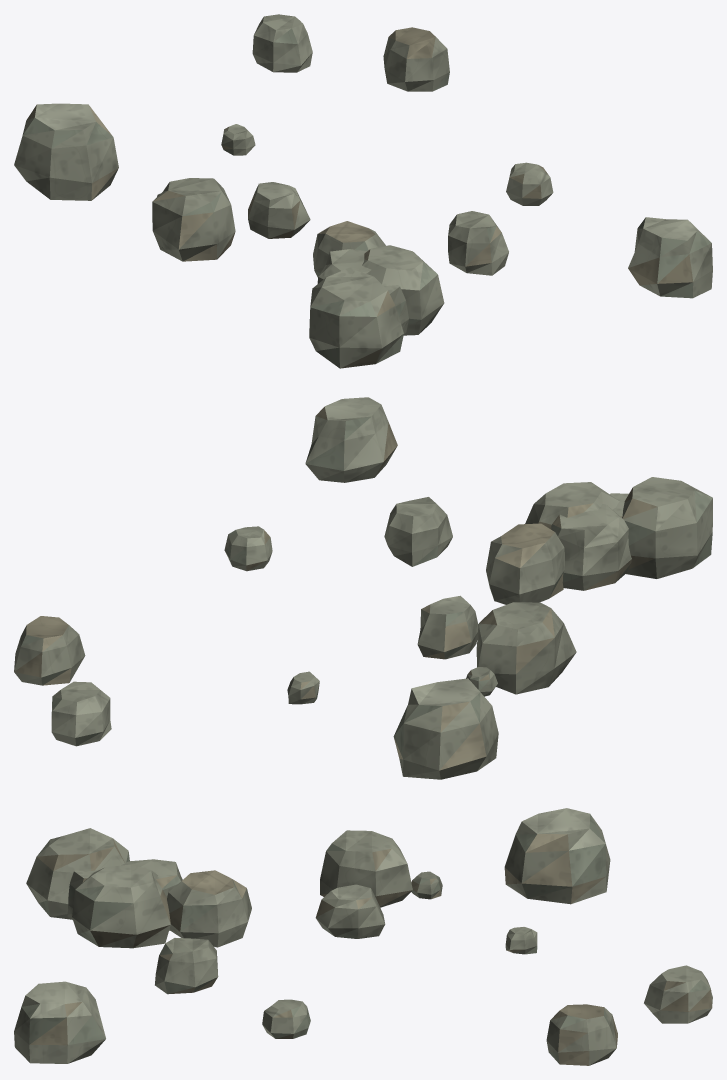
The model's file is b12_rubble.fbx.
The picture shows the model from 3 angles, top to bottom: view 1: azimuth 30°, elevation 25°; view 2: azimuth 150°, elevation 25°; view 3: azimuth 270°, elevation 25°; orthographic projection. The views are drawn at different scales.
Parts seen in each view (by area): view 1: b12_rubble; view 2: b12_rubble; view 3: b12_rubble.
Part boxes in pixels (x1,y1,x2,y2): b12_rubble: (14,14,712,368); b12_rubble: (14,397,712,779); b12_rubble: (14,808,712,1065).
Bounding box in the file's own units: 11990 × 17284 × 1829.
